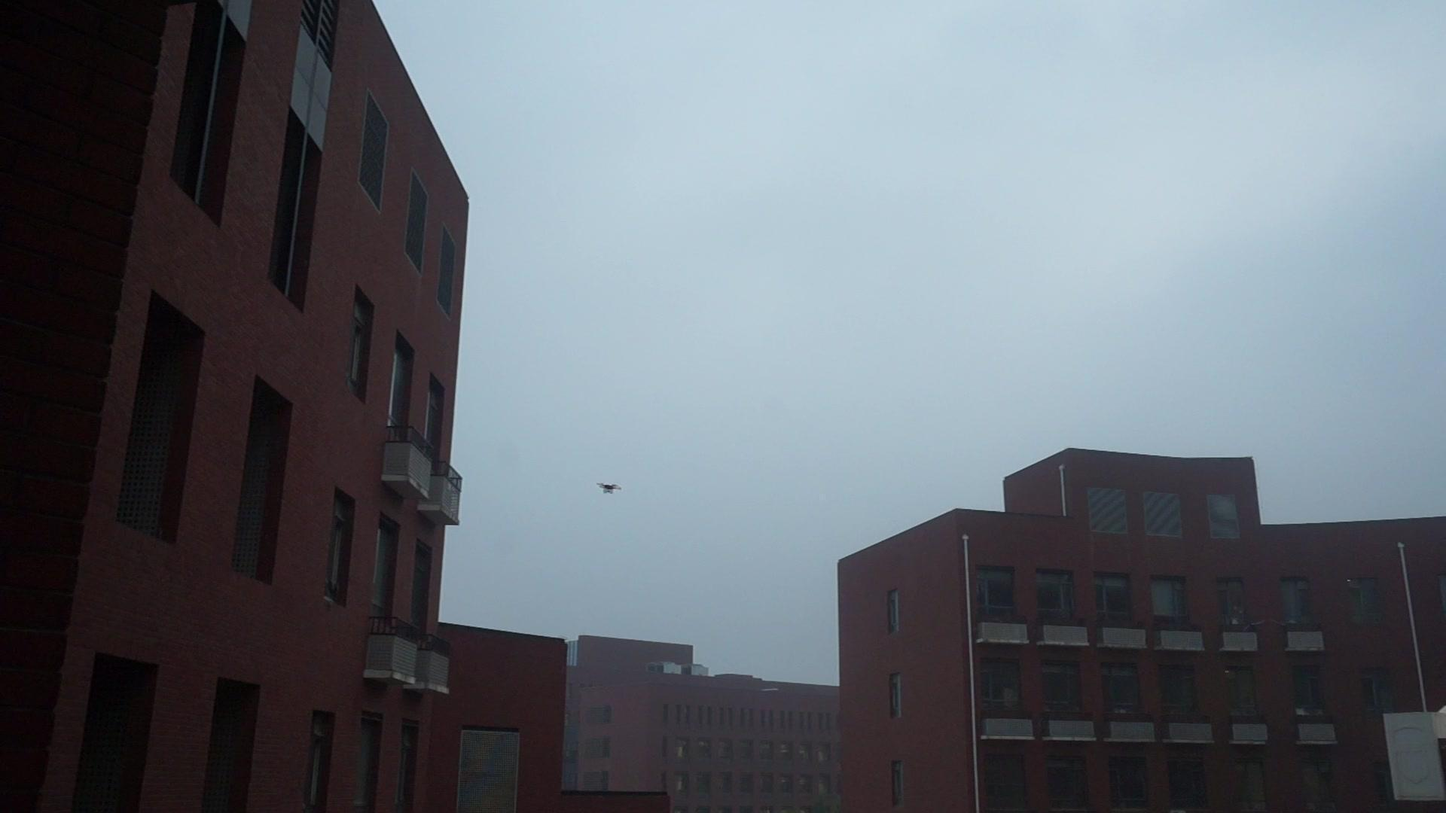UAV: (596, 483, 623, 495)
